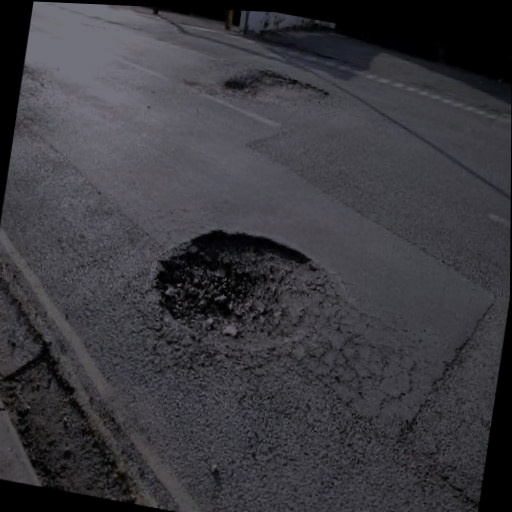pothole: (146, 212, 341, 362), (0, 335, 165, 503), (219, 56, 339, 120)
